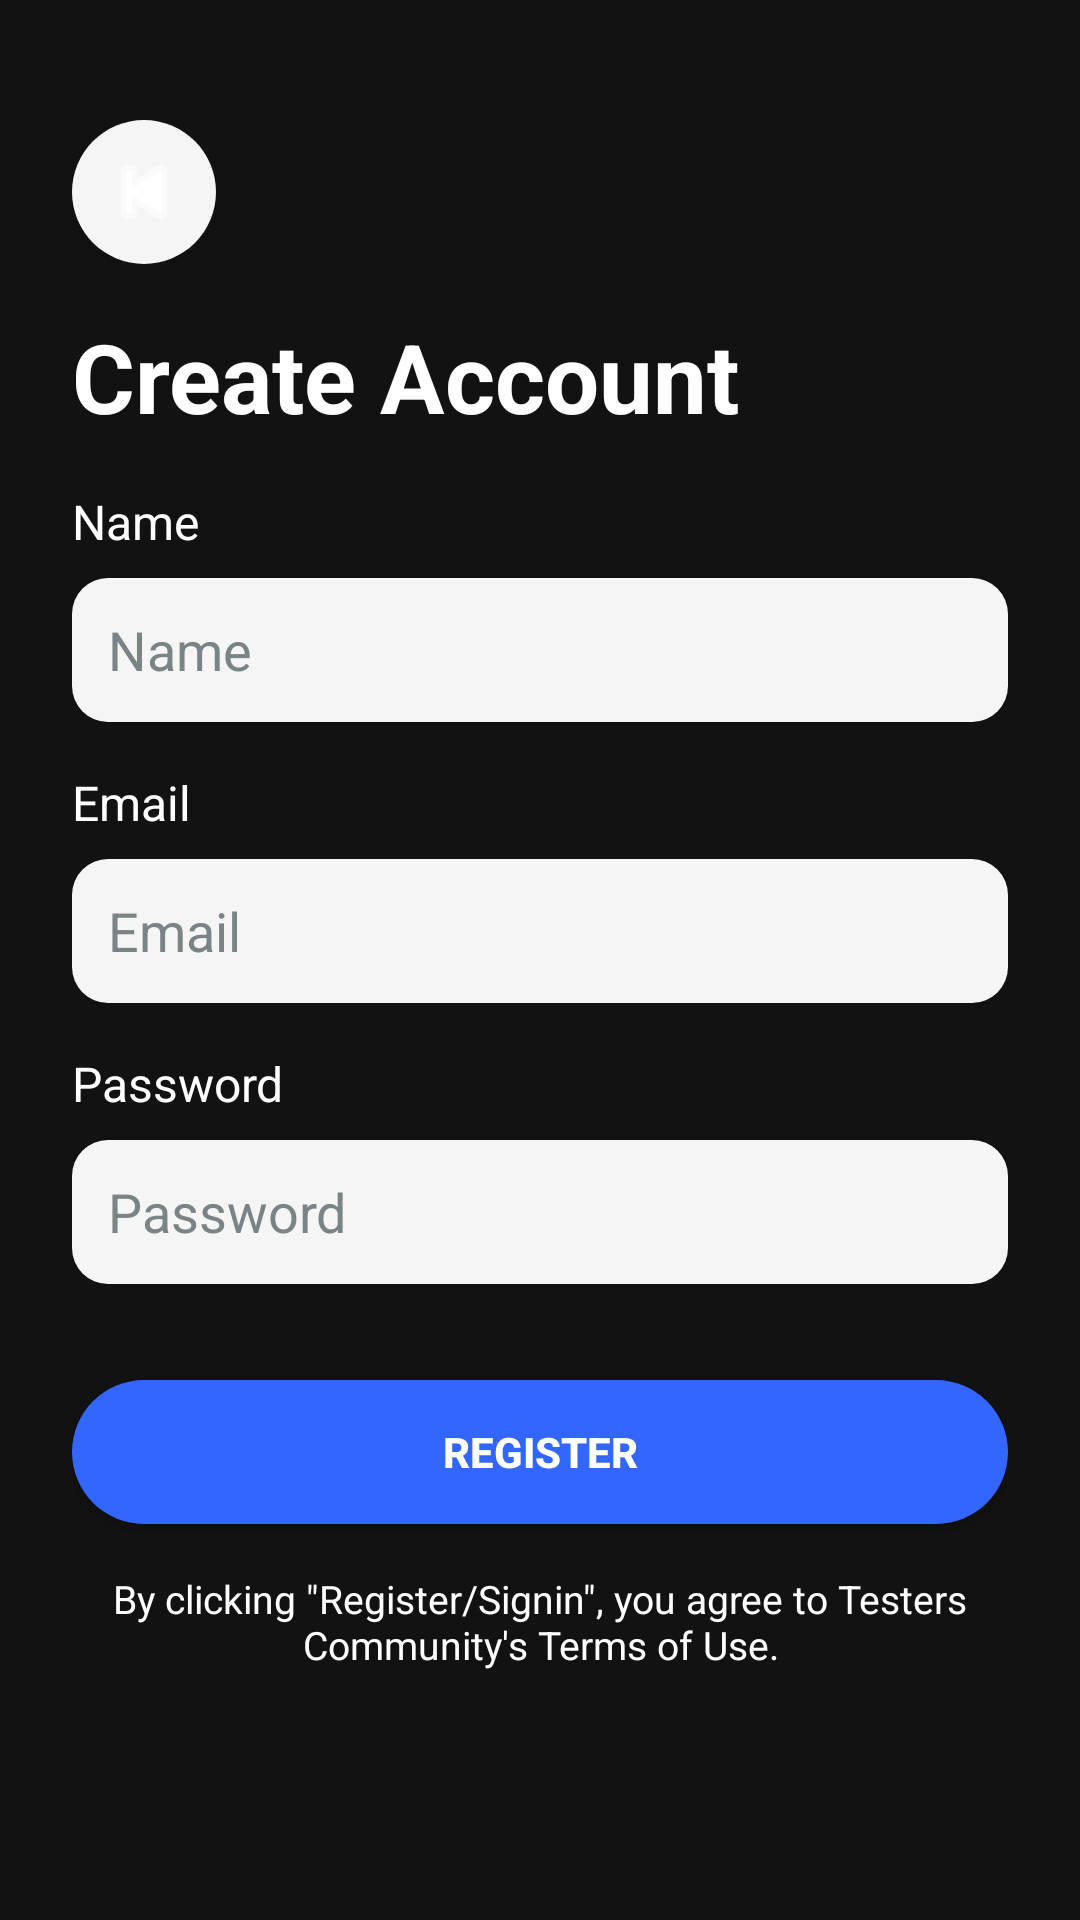

Icons on this 1080w x 1920h Android screen, each with the point to tap as point (x, y):
previous: point (144, 192)
